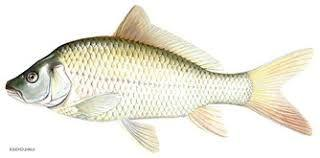Grass Carp: (6, 5, 315, 153)
